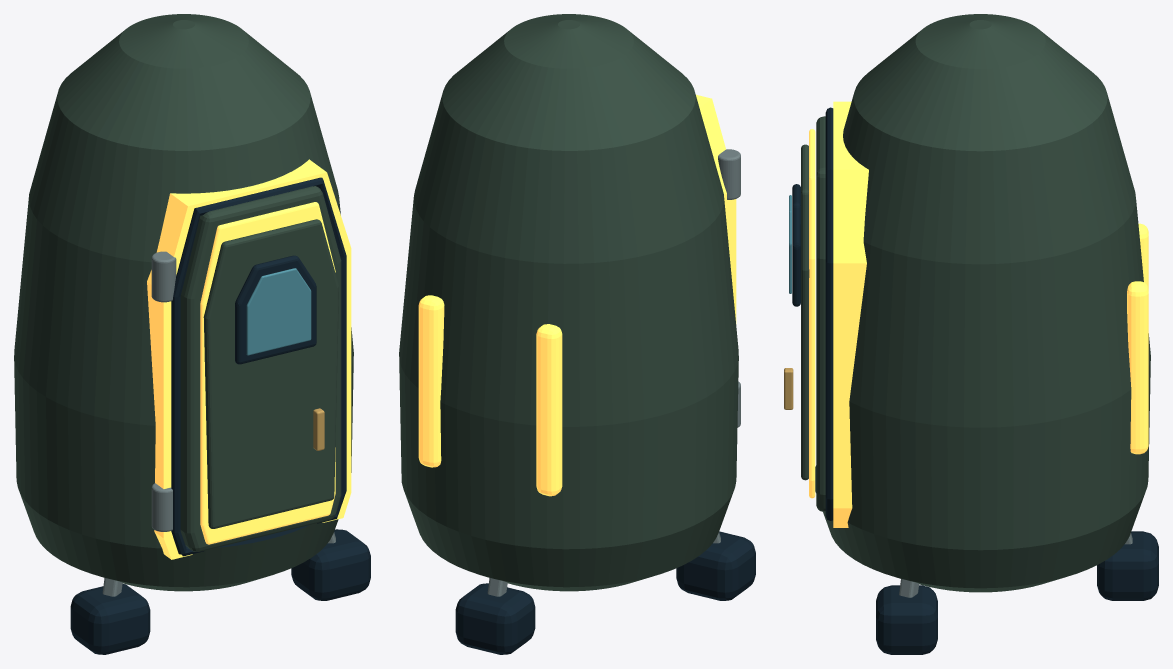
The model's file is ESCAPE_POD.hi.glb.
3 renders of one model, left to right at view 1: azimuth 30°, elevation 25°; view 2: azimuth 150°, elevation 25°; view 3: azimuth 270°, elevation 25°, orthographic.
Parts seen in each view (by area): view 1: Body_Mesh, HatchPivot_Mesh; view 2: Body_Mesh; view 3: Body_Mesh, HatchPivot_Mesh.
Part boxes in pixels (x1,y1,x2,y2): Body_Mesh: [14, 14, 370, 654]; HatchPivot_Mesh: [180, 186, 341, 551]; Body_Mesh: [399, 14, 755, 654]; Body_Mesh: [815, 14, 1158, 654]; HatchPivot_Mesh: [784, 116, 825, 511].
Size of the model in its own units: 0.55 by 1.01 by 0.6055.
Materials: 1 (1 with a texture image).
